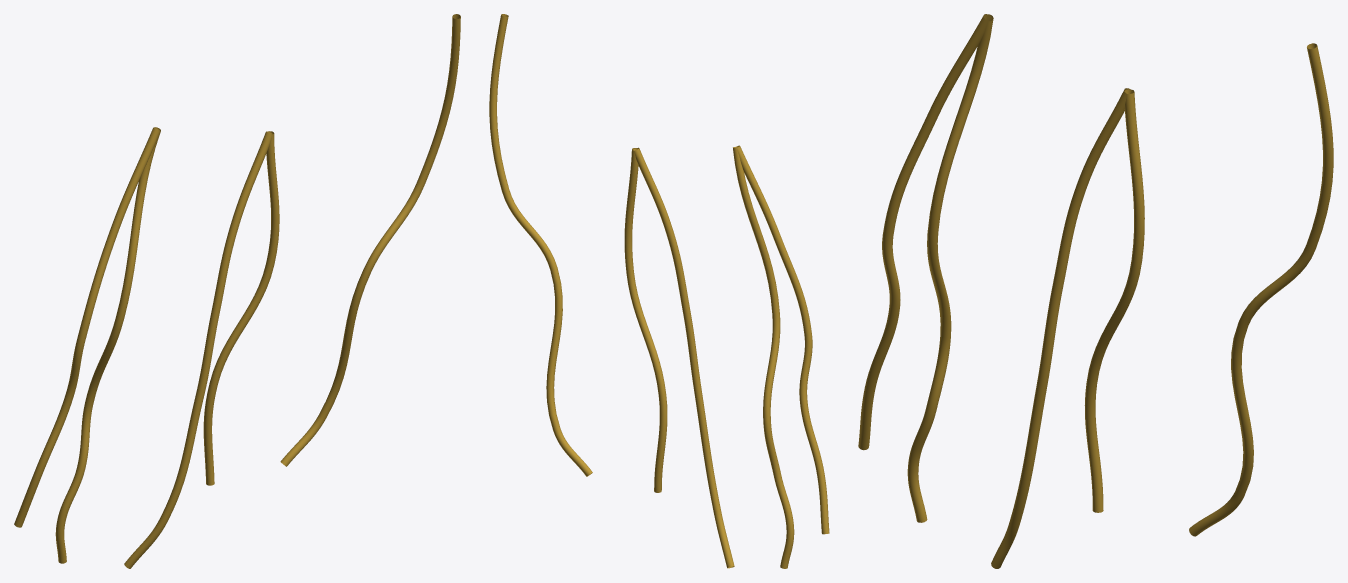
The picture shows the model from 3 angles, left to right: view 1: azimuth 30°, elevation 25°; view 2: azimuth 150°, elevation 25°; view 3: azimuth 330°, elevation 25°; orthographic projection. The views are drawn at different scales.
Parts seen in each view (by area): view 1: 右侧足底内侧神经趾足底固有神经; view 2: 右侧足底内侧神经趾足底固有神经; view 3: 右侧足底内侧神经趾足底固有神经.
Part boxes in pixels (bbox=[...]): 右侧足底内侧神经趾足底固有神经: bbox=[14, 14, 460, 568]; 右侧足底内侧神经趾足底固有神经: bbox=[489, 14, 829, 568]; 右侧足底内侧神经趾足底固有神经: bbox=[858, 14, 1333, 568].
Size of the model in its own units: 0.0816 by 0.098 by 0.0165.
